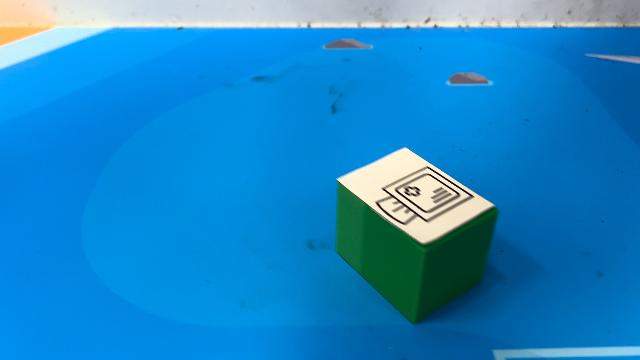napkin: (334, 145, 501, 325)
